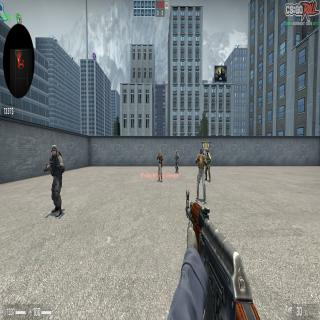CT-Body: (44, 144, 64, 219), (204, 149, 212, 182), (174, 150, 179, 174)
CT-Head: (51, 144, 58, 158), (206, 149, 209, 156), (175, 150, 178, 155)
T-Body: (196, 149, 207, 203), (157, 150, 163, 183)
T-Head: (200, 148, 202, 158), (159, 150, 161, 156)
